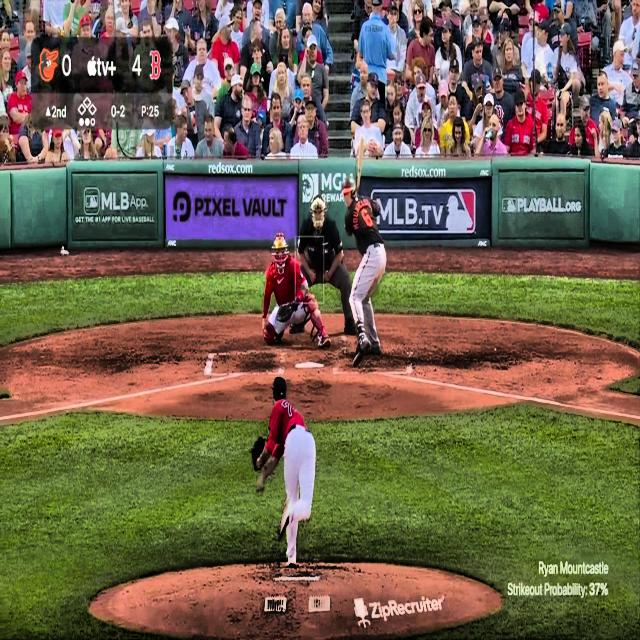baseball: (314, 307, 322, 319)
